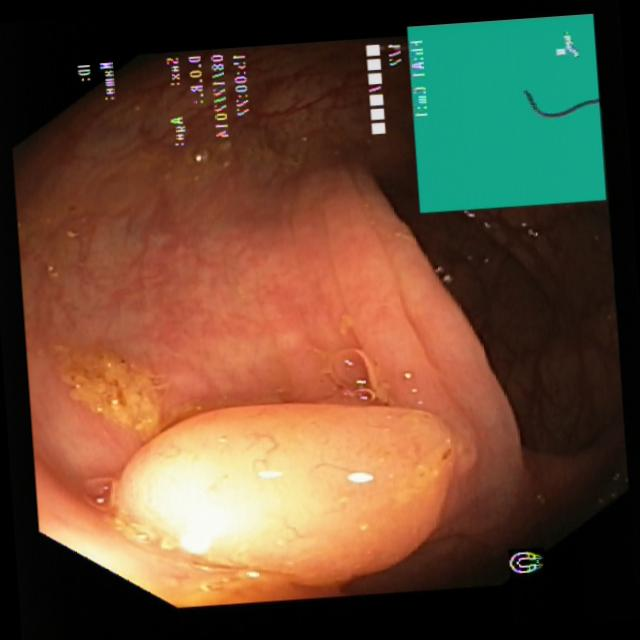Polyps: (93, 397, 458, 596), (38, 337, 175, 439)
